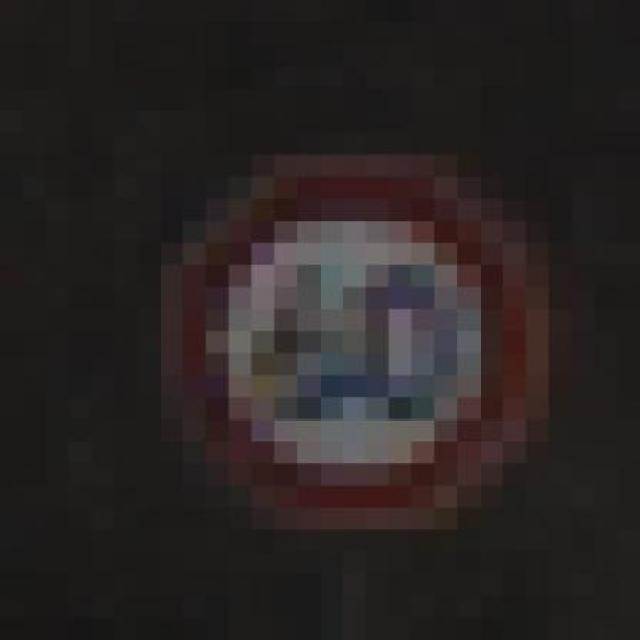forb_speed_over_60: (181, 166, 528, 519)
